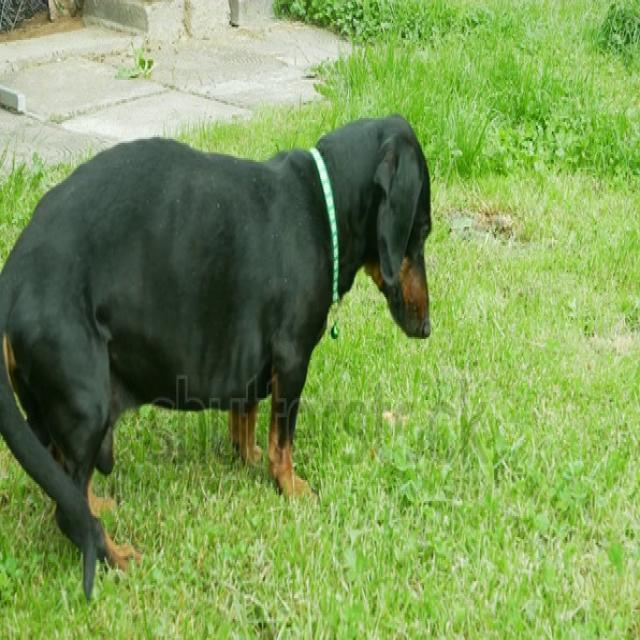normal_animals: (0, 107, 437, 602)
